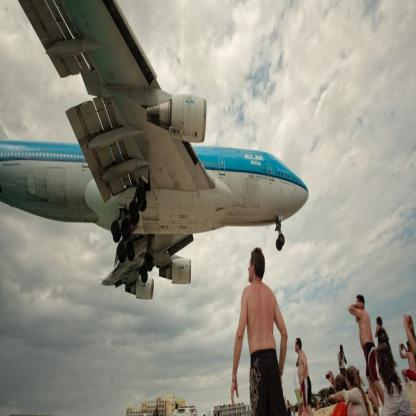CIV_Plane: (0, 0, 312, 308)
